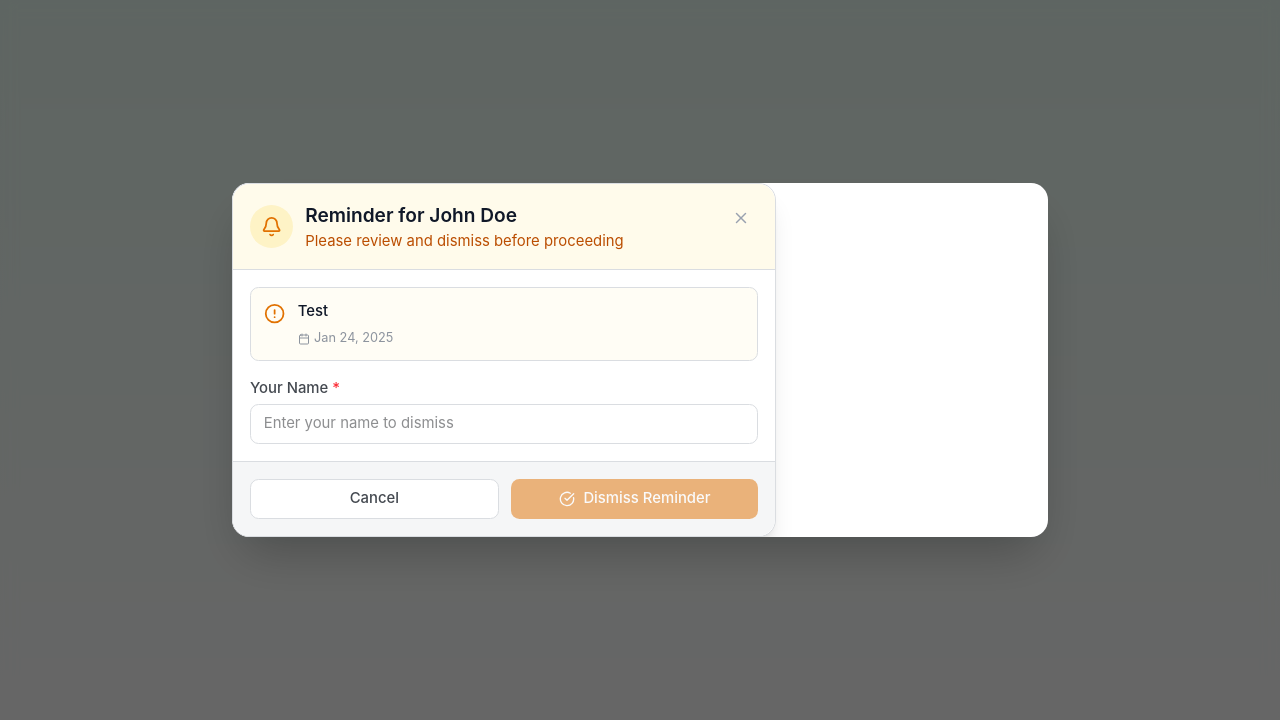
ReminderDismissalModal › shows error when dismissal fails
Type "Jane Smith" into the field with placeholder "Enter your name to dismiss" at x=504, y=424, box [250,404,758,444]
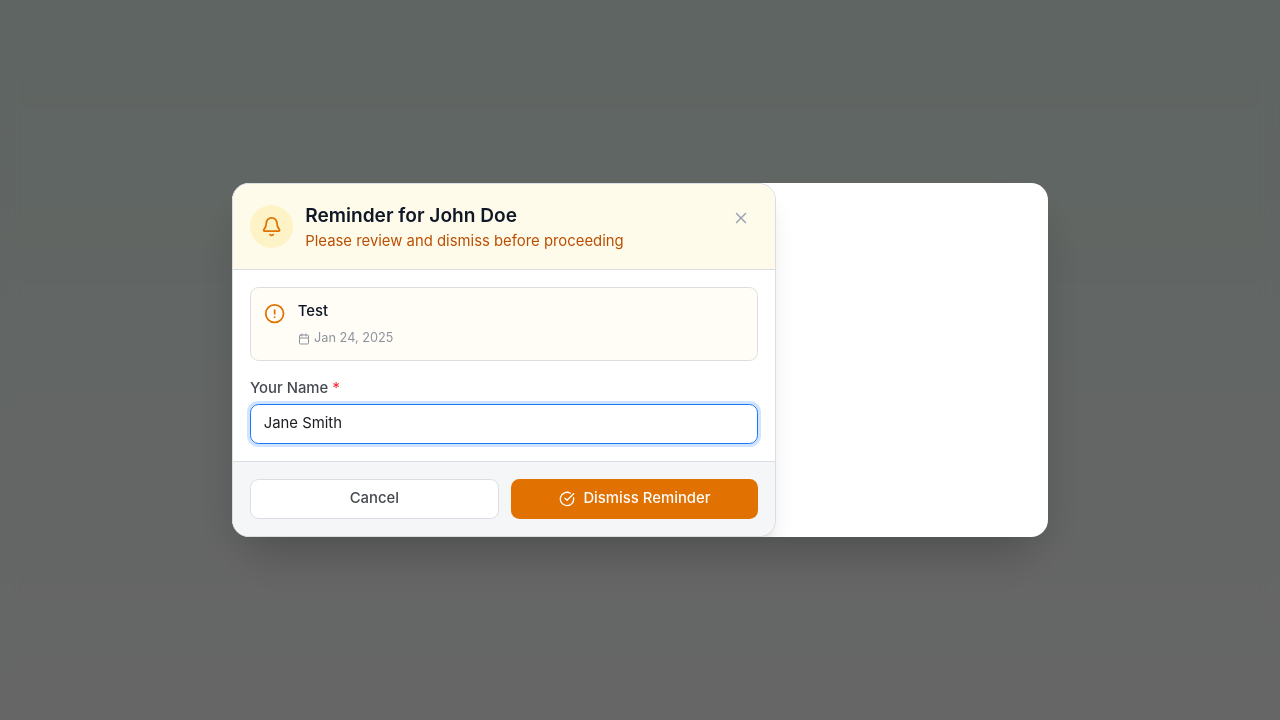
Click the button "Dismiss Reminder" at x=635, y=499, box [511,479,758,519]
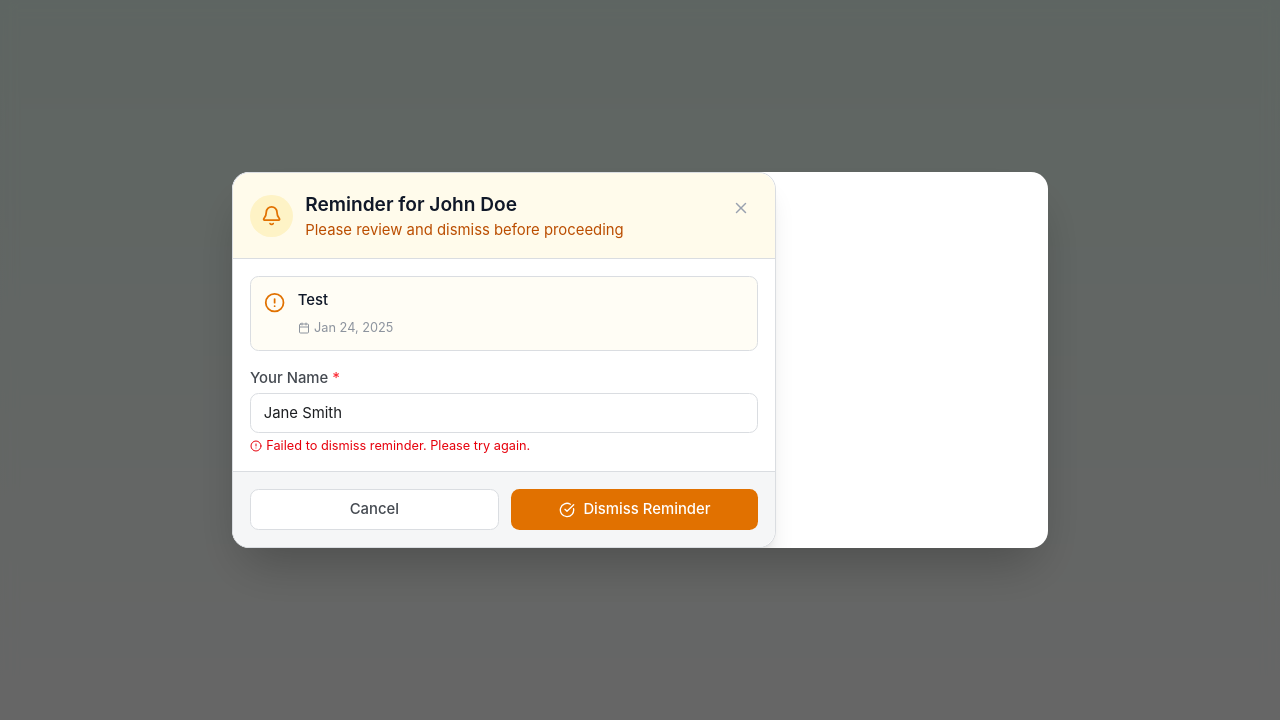
Expected: the text "Failed to dismiss reminder. Please try again." is shown, [250,438,530,452]
